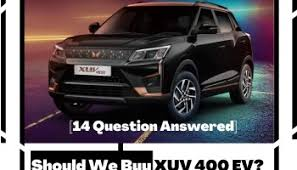XUV 400: (46, 2, 256, 119)
